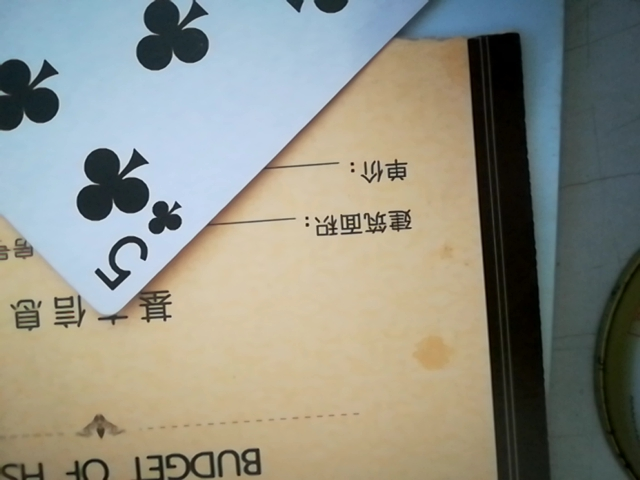mh 5: (5, 0, 484, 318)
